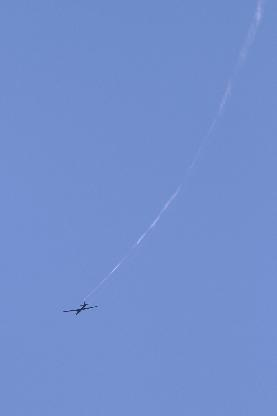Tu160: (62, 300, 99, 314)
